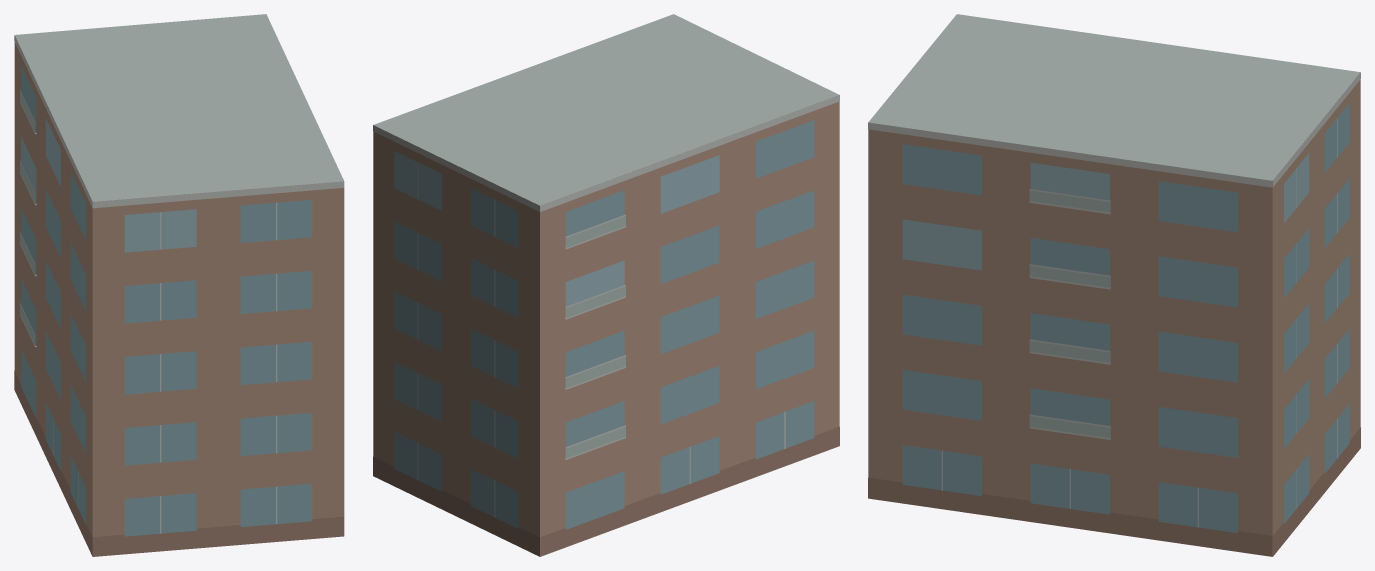
File: survey-upis-32869798.glb
3 renders of one model, left to right at view 1: azimuth 30°, elevation 25°; view 2: azimuth 150°, elevation 25°; view 3: azimuth 270°, elevation 25°, orthographic. The views are drawn at different scales.
Parts seen in each view (by area): view 1: survey-upis-32869798.tmp; view 2: survey-upis-32869798.tmp; view 3: survey-upis-32869798.tmp.
Boxes of the visible parts, left/top/right/bottom form: survey-upis-32869798.tmp: left=14, top=14, right=344, bottom=556; survey-upis-32869798.tmp: left=373, top=14, right=839, bottom=556; survey-upis-32869798.tmp: left=868, top=14, right=1360, bottom=556.
Size of the model in its own units: 12.86 by 13.5 by 16.04.
